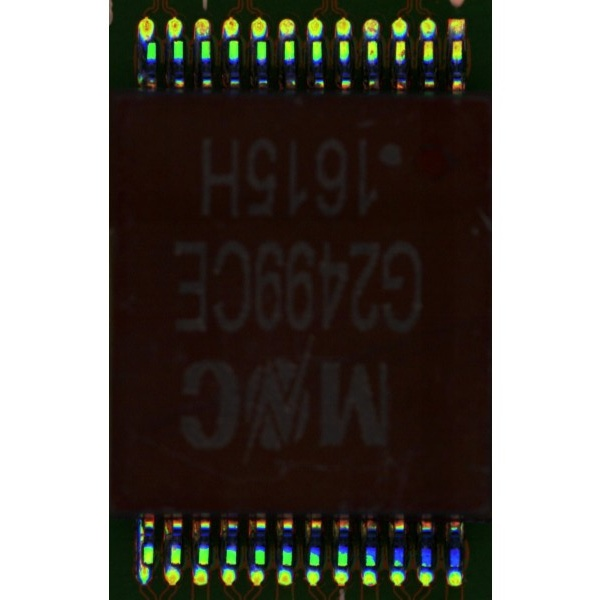Bad_qiaojiao: (138, 519, 143, 560)
